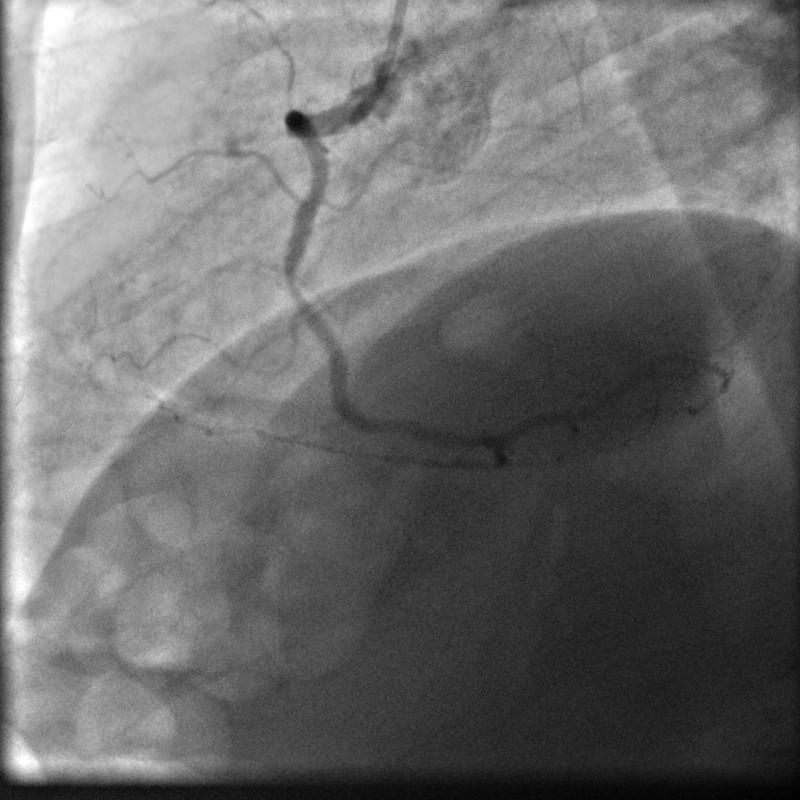Stenosis: (280, 268, 308, 304)
